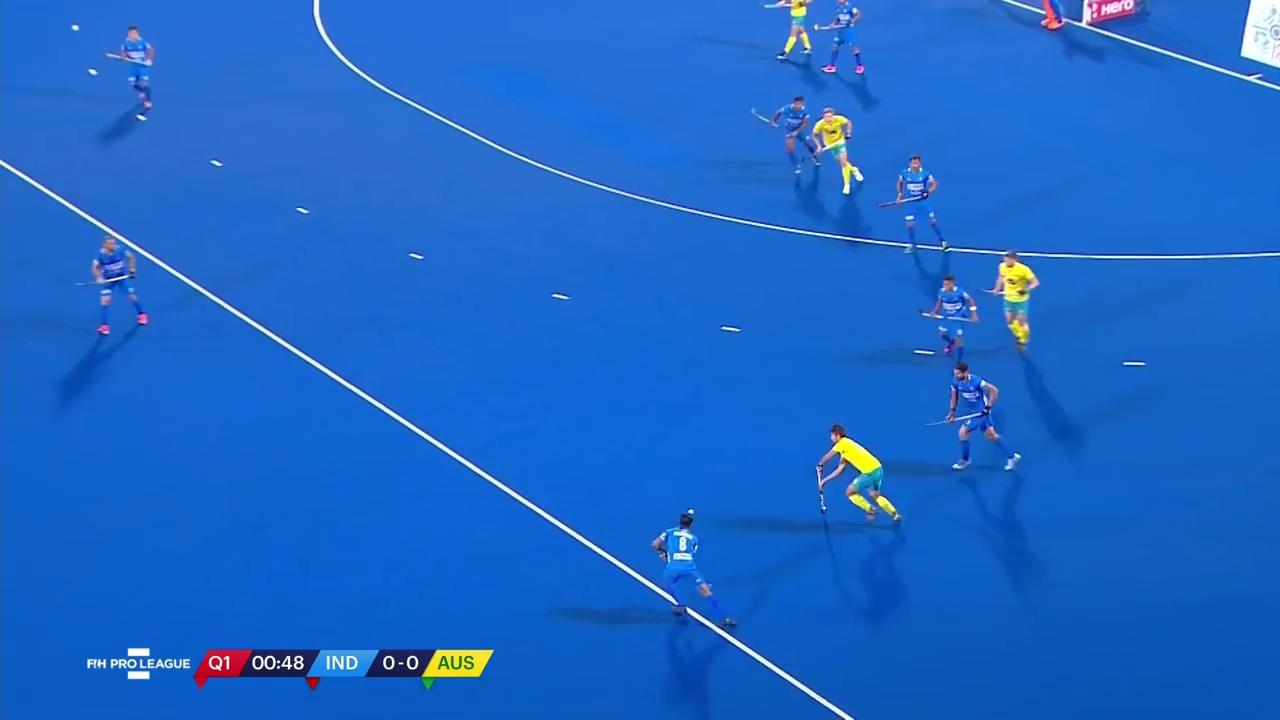ball: (814, 500, 834, 516)
